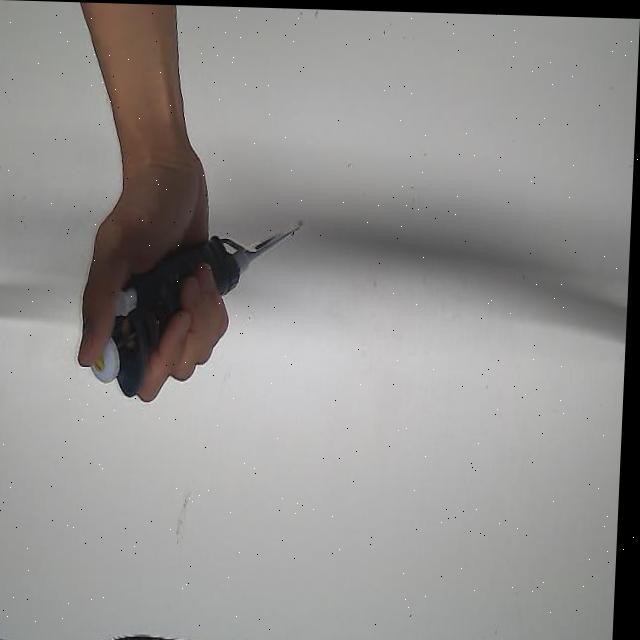Single Channel Pipettor: (90, 209, 311, 407)
